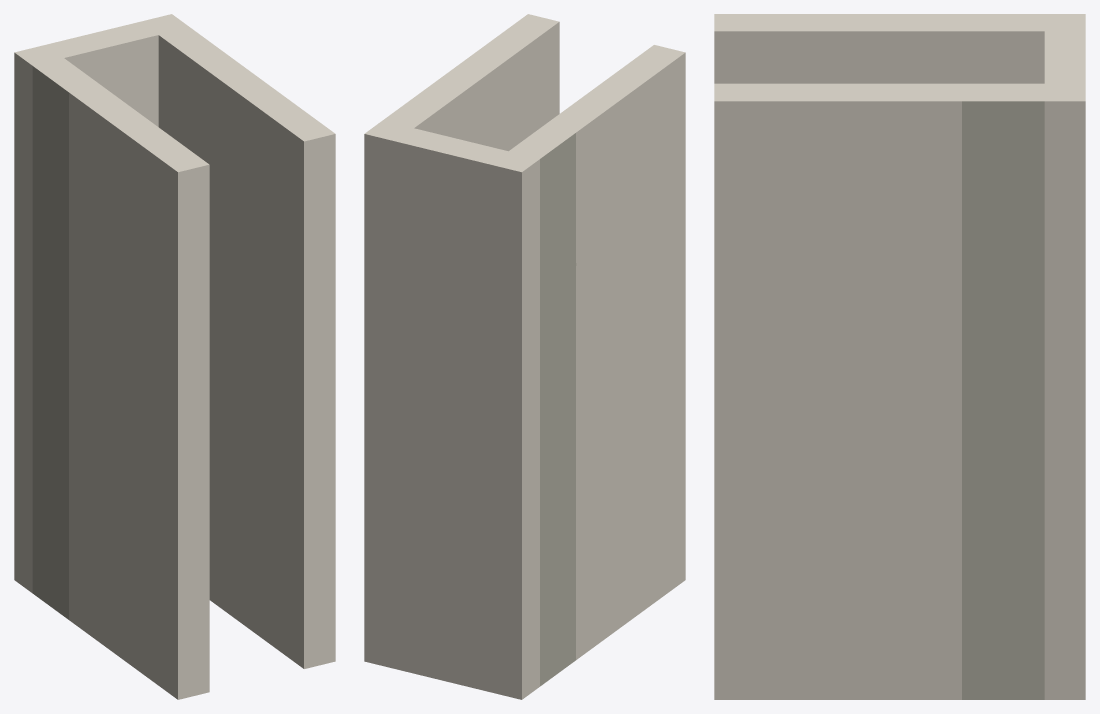
Rendered from Book_Cover.gltf.
3 views of the same model, side by side, from view 1: azimuth 30°, elevation 25°; view 2: azimuth 150°, elevation 25°; view 3: azimuth 270°, elevation 25° (orthographic). The views are drawn at different scales.
Visible parts, largest first — view 1: mesh (×2), front; view 2: front, mesh (×2); view 3: mesh (×2), front.
Part boxes in pixels (x1=…): mesh (×2): x1=32, y1=27, x2=335, y2=699; front: x1=14, y1=14, x2=189, y2=593; front: x1=364, y1=120, x2=539, y2=699; mesh (×2): x1=383, y1=14, x2=685, y2=686; mesh (×2): x1=714, y1=14, x2=1044, y2=699; front: x1=1044, y1=14, x2=1085, y2=699.
Bounding box in the file's own units: 0.1562 × 0.5 × 0.2812.
Materials: 1 (1 with a texture image).
